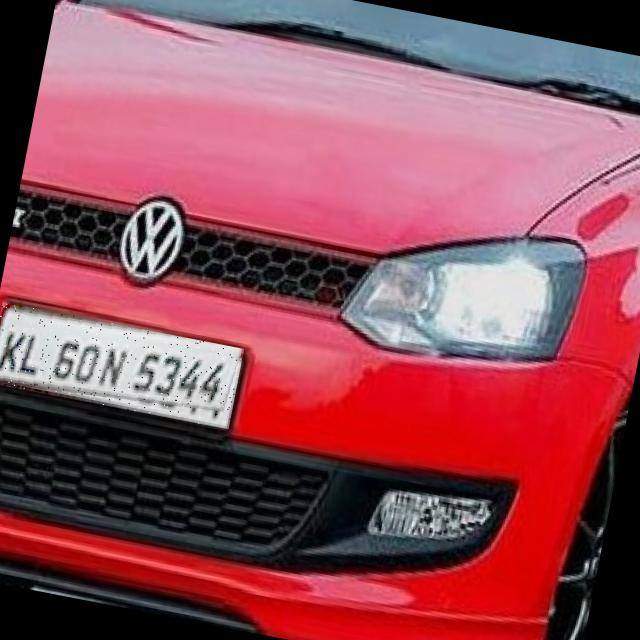Plate: (1, 303, 245, 430)
